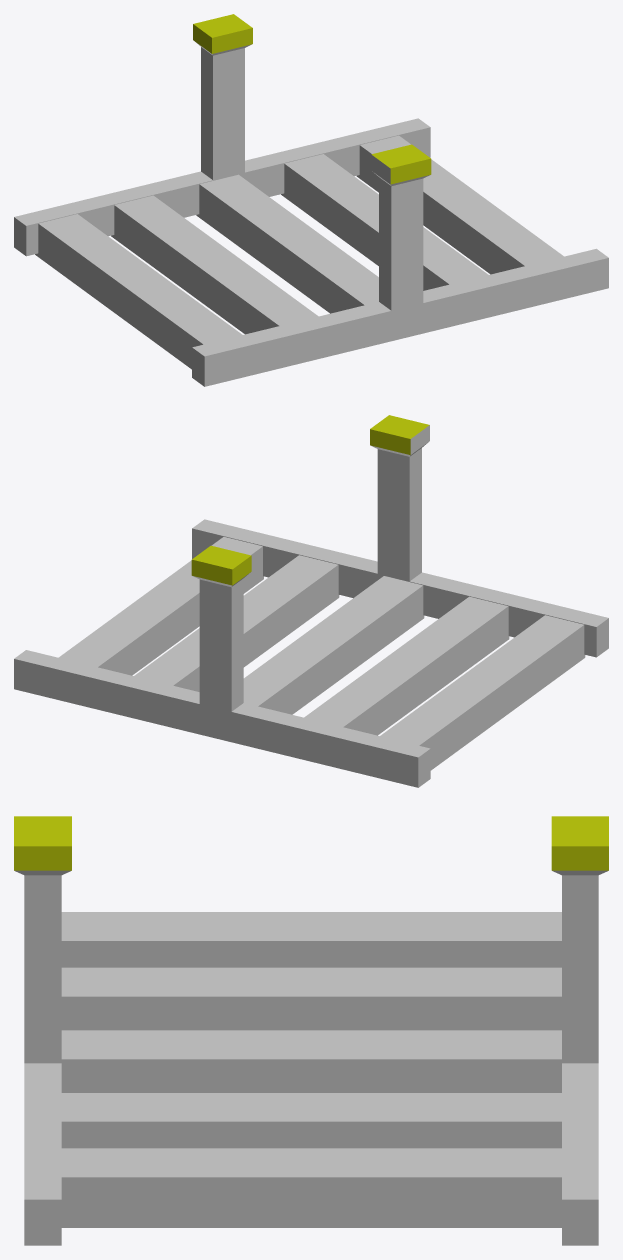
3 views of the same model, one above another, from view 1: azimuth 30°, elevation 25°; view 2: azimuth 150°, elevation 25°; view 3: azimuth 270°, elevation 25° (orthographic). The views are drawn at different scales.
Parts seen in each view (by area): view 1: 立方体_6; view 2: 立方体_6; view 3: 立方体_6.
Boxes of the visible parts, x1,y1,x2,y2 form: 立方体_6: (14,14,608,386); 立方体_6: (14,415,608,787); 立方体_6: (14,816,608,1245).
Size of the model in its own units: 178 by 75.88 by 151.
